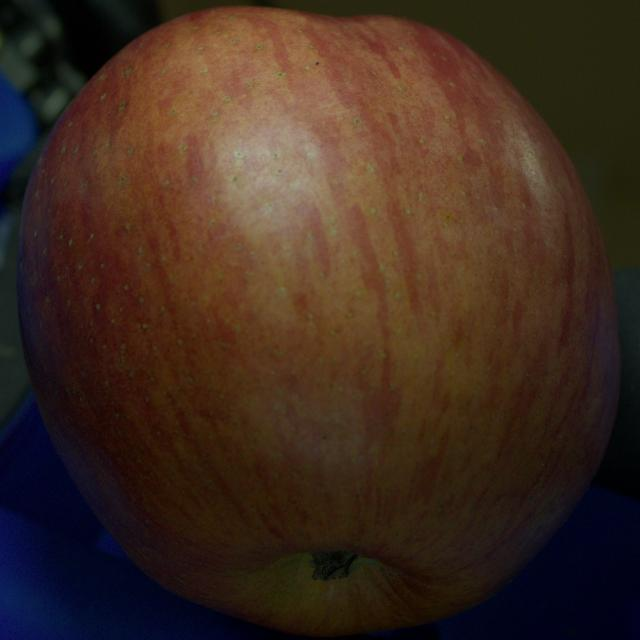apple: (17, 7, 619, 636)
